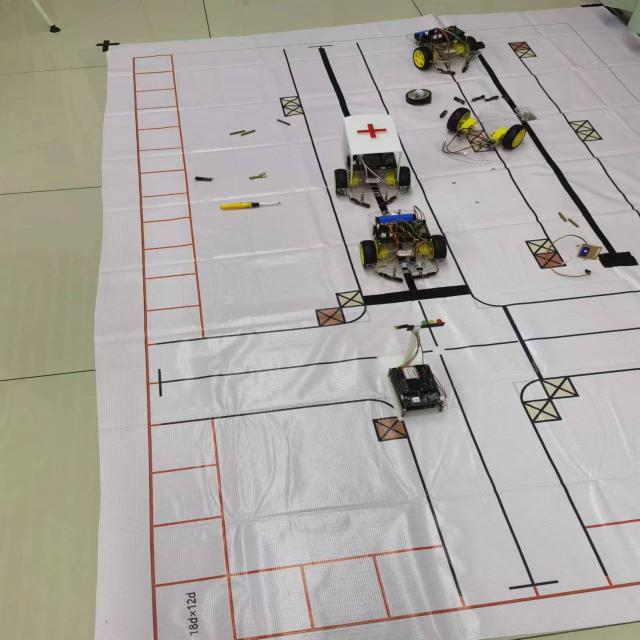RedCross: (355, 119, 390, 143)
